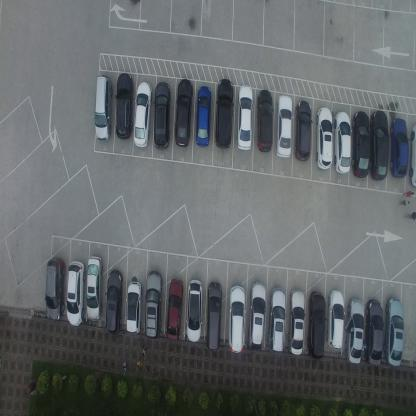car: (383, 297, 405, 367), (214, 78, 234, 150), (370, 108, 390, 180), (306, 290, 326, 358), (344, 297, 364, 364), (174, 78, 193, 148), (247, 280, 266, 350), (364, 300, 384, 366), (66, 260, 86, 326), (45, 256, 65, 322), (144, 270, 163, 339), (205, 280, 223, 352), (133, 81, 152, 149), (105, 268, 124, 336), (115, 73, 134, 140), (85, 254, 104, 321), (153, 80, 171, 150), (228, 284, 246, 354), (267, 288, 286, 354), (352, 110, 370, 179), (287, 288, 305, 357), (315, 105, 334, 170), (94, 75, 112, 142), (390, 116, 409, 178), (237, 83, 254, 152), (194, 84, 212, 148), (276, 93, 293, 160), (294, 99, 312, 162), (165, 278, 183, 341), (326, 288, 344, 350), (334, 110, 351, 175), (186, 279, 202, 343), (256, 90, 272, 152), (126, 280, 142, 335), (410, 122, 415, 188)
